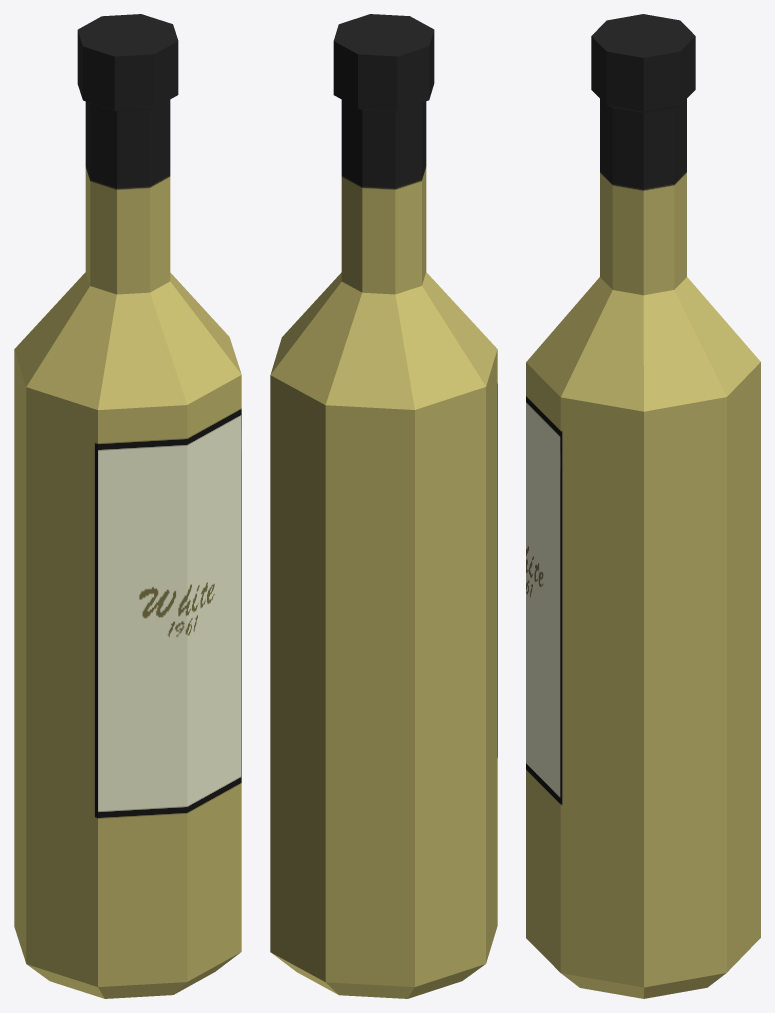
File: Winebottle.fbx
3 views of the same model, side by side, from view 1: azimuth 30°, elevation 25°; view 2: azimuth 150°, elevation 25°; view 3: azimuth 270°, elevation 25° (orthographic).
Parts seen in each view (by area): view 1: pCylinder9; view 2: pCylinder9; view 3: pCylinder9.
Part boxes in pixels (box(x1,y1,x2,y2)): pCylinder9: box(14, 14, 241, 998); pCylinder9: box(270, 14, 497, 998); pCylinder9: box(526, 14, 760, 998).
Size of the model in its own units: 8.6 by 37.37 by 8.6.
